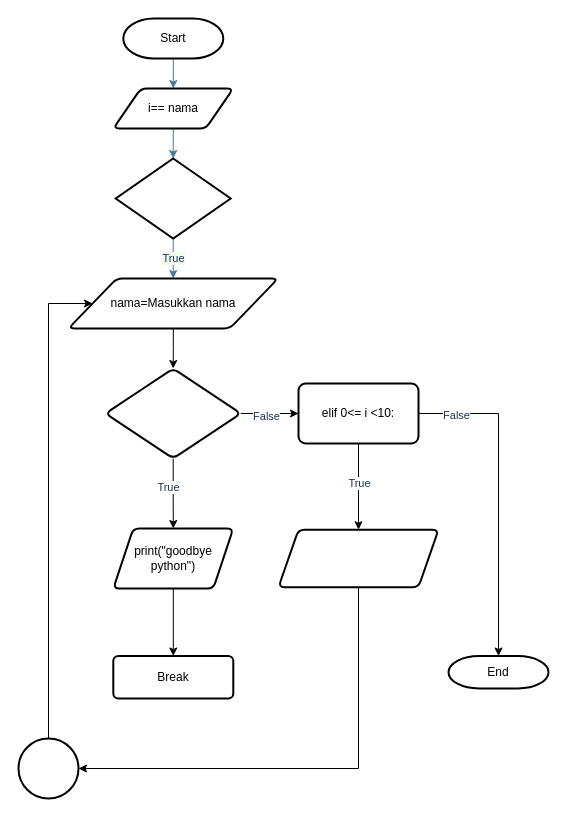
Some shapes in this 566 by 816 pixel diagram are drawn without their labels. Each missing label, with the centre of its shape:
for i in range(0,10):: pixel 172 198
if nama == "python":: pixel 172 413
print("Nama saya ",nama): pixel 358 558
